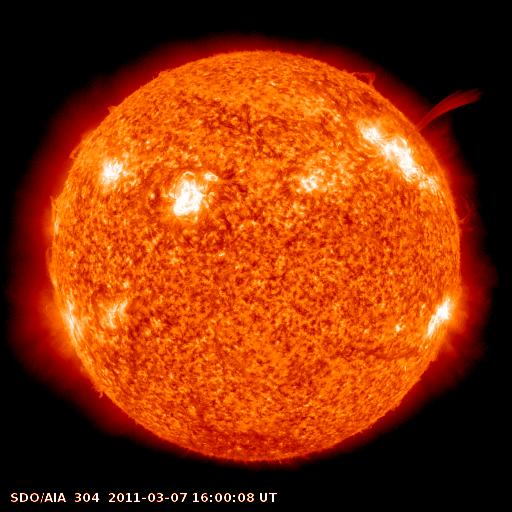prominence: (400, 83, 491, 145), (444, 190, 492, 240), (334, 52, 386, 98), (56, 120, 98, 163), (38, 183, 73, 224), (37, 237, 63, 281)
